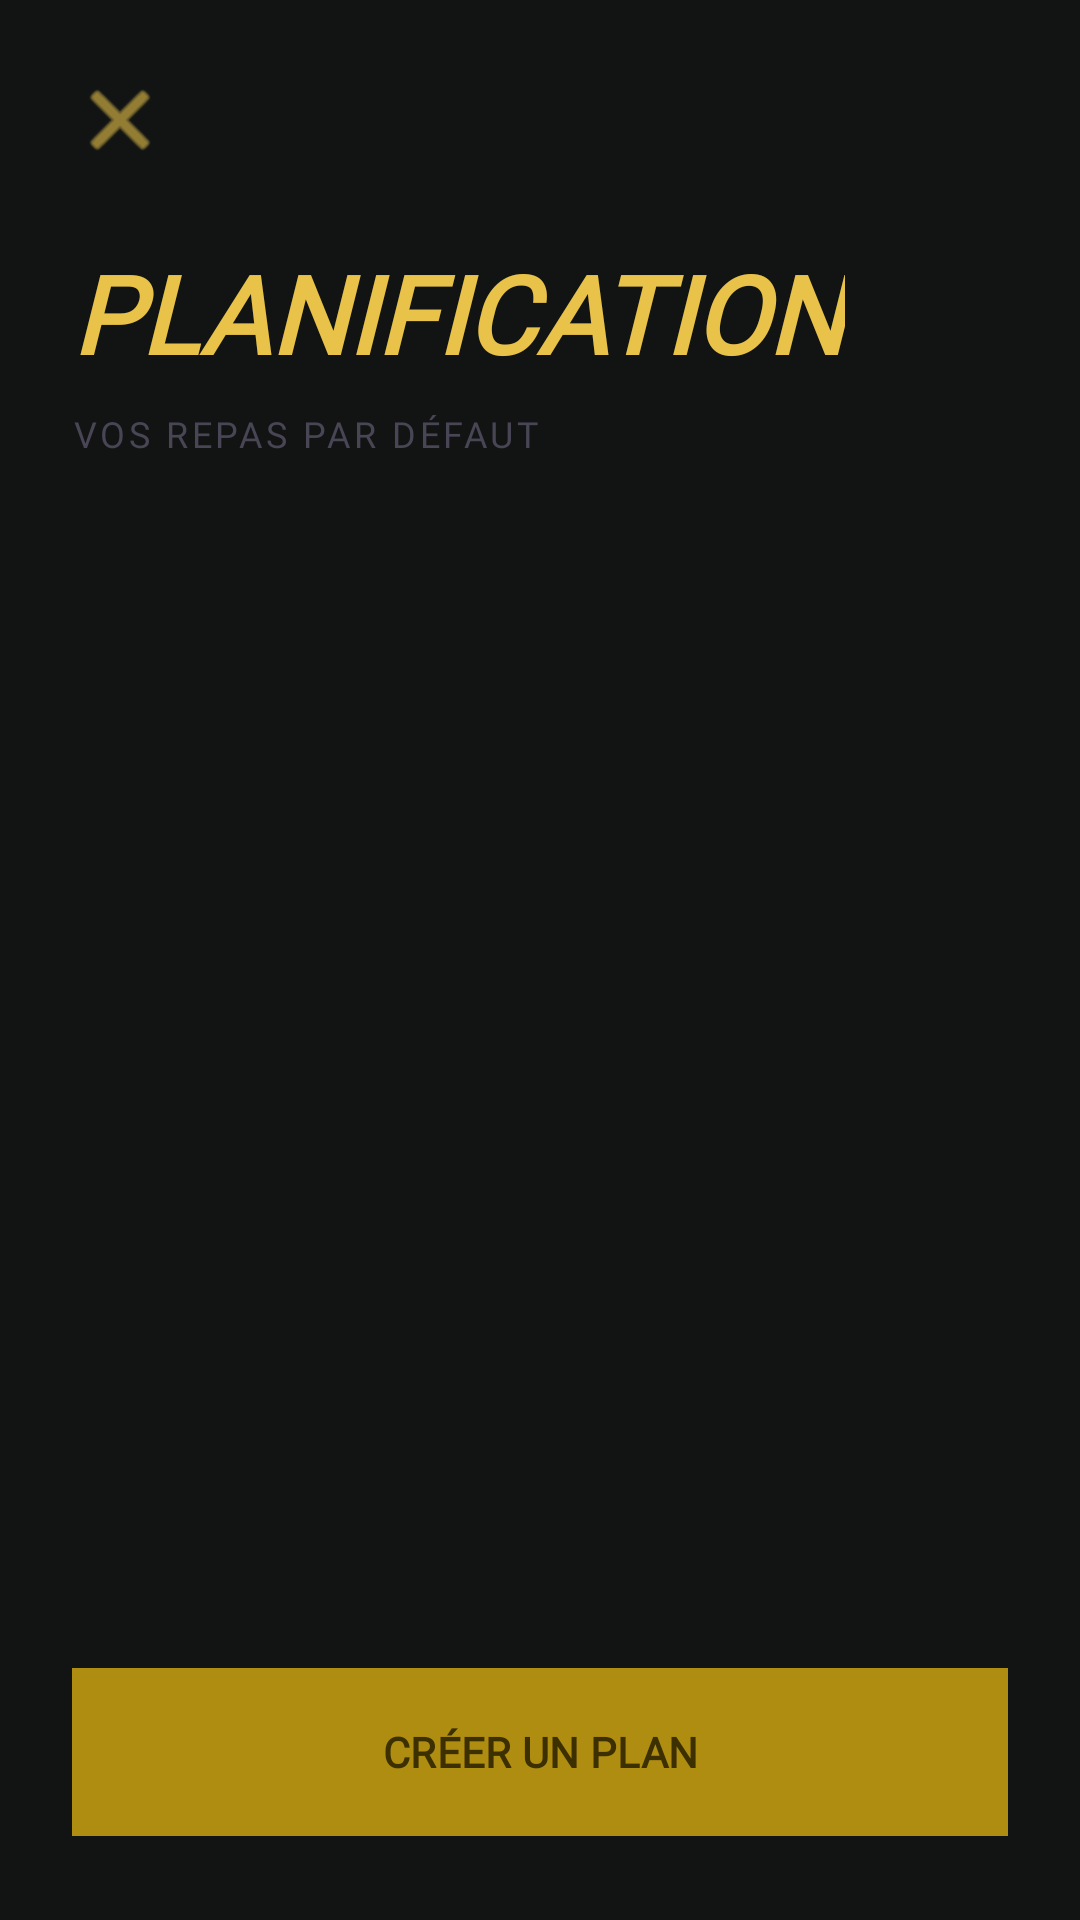

Where to tap for icons on this 1080 × 1920 app screen, as (x,y):
Retour: (120,120)
